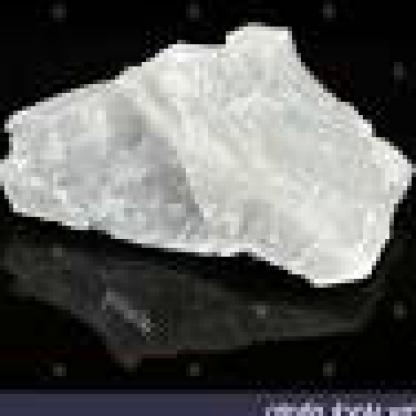Metamorphic_Quartize: (4, 13, 416, 284)
